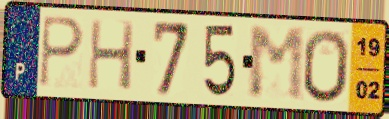5: (202, 23, 238, 99)
7: (151, 18, 191, 98)
H: (86, 17, 137, 93)
M: (246, 25, 307, 104)
O: (301, 27, 351, 106)
P: (38, 14, 87, 90)
